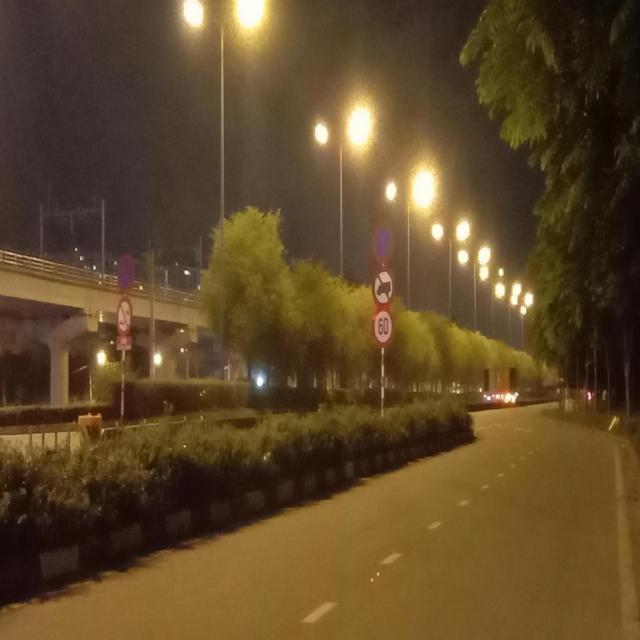106-cam-oto-tai: (372, 266, 396, 310)
127-toc-do-toi-da-60: (370, 309, 396, 346)
